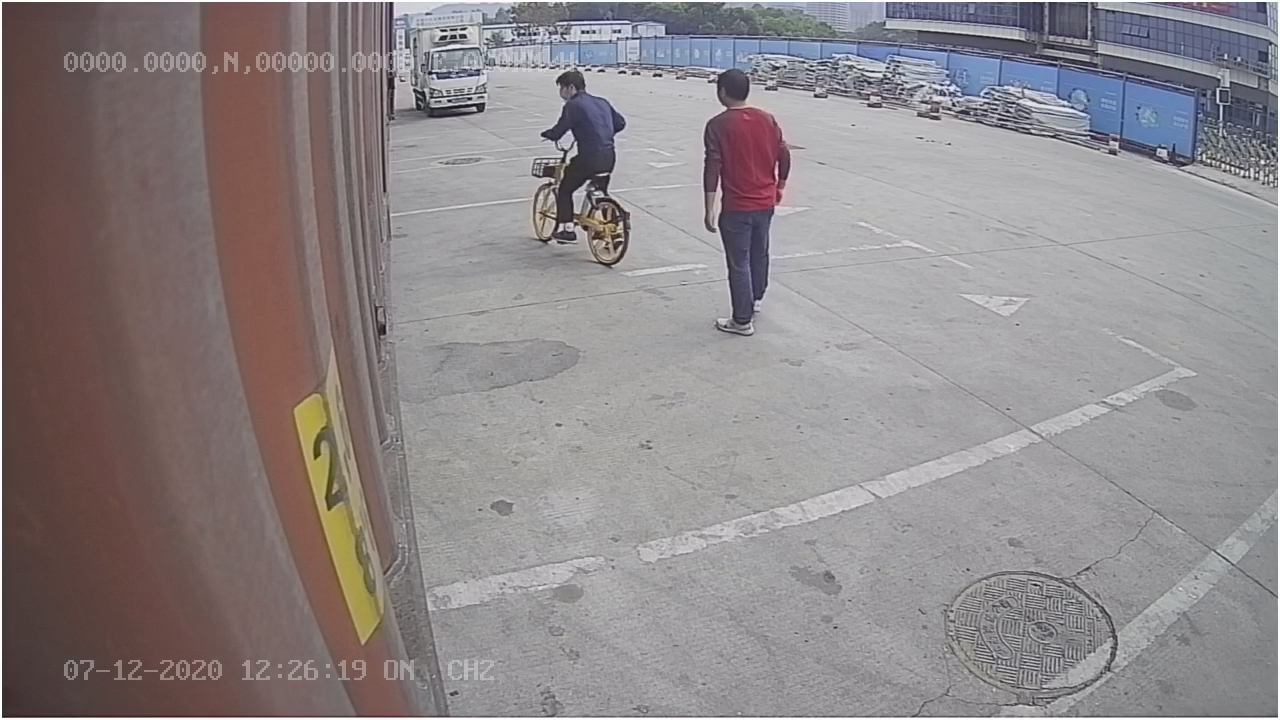person: (699, 65, 799, 341)
